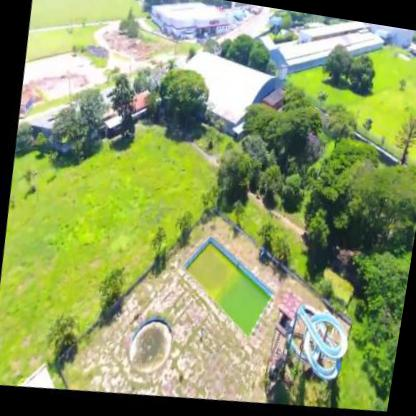agua: (112, 314, 174, 392), (222, 263, 260, 332), (192, 253, 228, 299)
